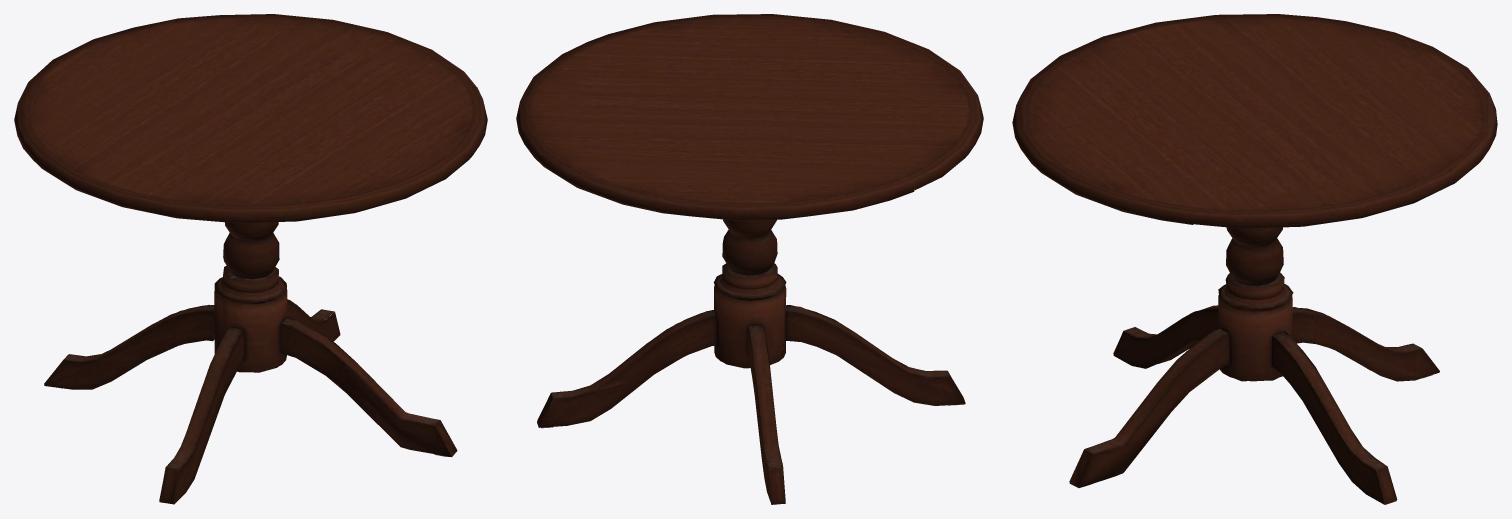
Rendered from round_wooden_table_01.glb.
3 views of the same model, side by side, from view 1: azimuth 30°, elevation 25°; view 2: azimuth 150°, elevation 25°; view 3: azimuth 270°, elevation 25° (orthographic). The views are drawn at different scales.
Visible parts, largest first — view 1: round_wooden_table_01; view 2: round_wooden_table_01; view 3: round_wooden_table_01.
Part boxes in pixels (box(x1,y1,x2,y2)): round_wooden_table_01: box(14, 14, 487, 504); round_wooden_table_01: box(516, 14, 983, 504); round_wooden_table_01: box(1012, 14, 1497, 504).
Bounding box in the file's own units: 1.4 × 1 × 1.4.
1 material, 1 textured.
